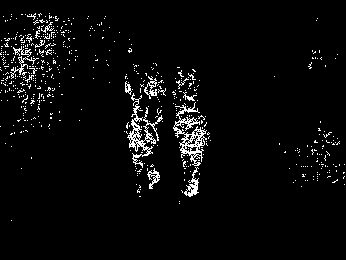person: (176, 95, 213, 200), (125, 107, 162, 196), (124, 59, 143, 111), (151, 60, 165, 109), (181, 61, 198, 100)
